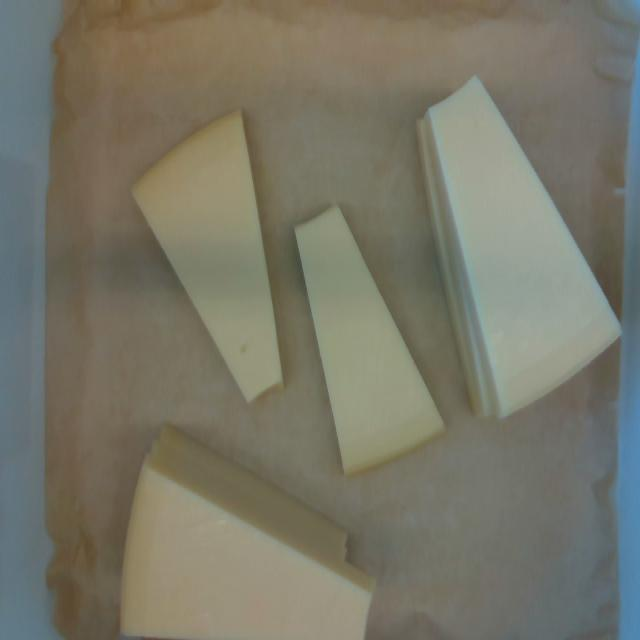cheese: (425, 80, 619, 416), (121, 463, 369, 639), (135, 115, 281, 400), (297, 207, 443, 475)
